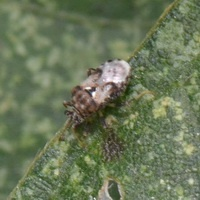insect: (64, 59, 130, 121)
